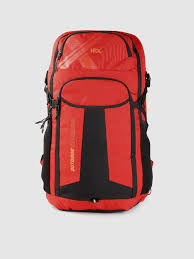backpack: (38, 29, 153, 212)
